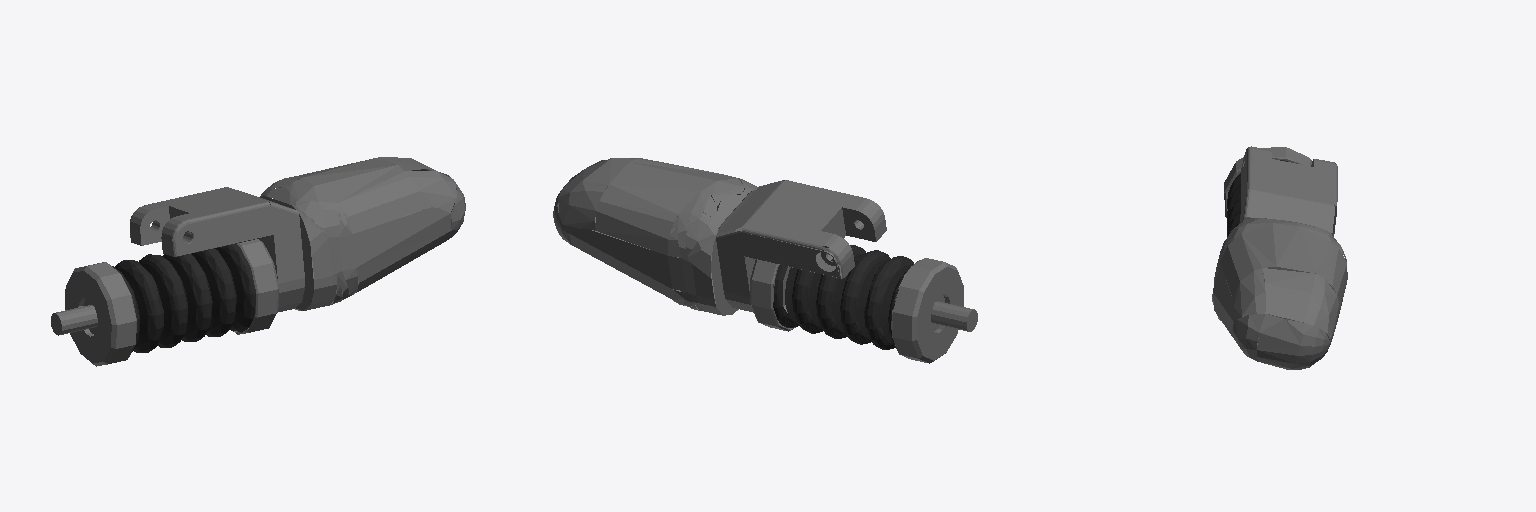
The picture shows the model from 3 angles: view 1: azimuth 30°, elevation 25°; view 2: azimuth 150°, elevation 25°; view 3: azimuth 270°, elevation 25°; orthographic projection.
Bounding box in the file's own units: 0.0606 × 0.0192 × 0.0176.
Materials: 1 (1 with a texture image).